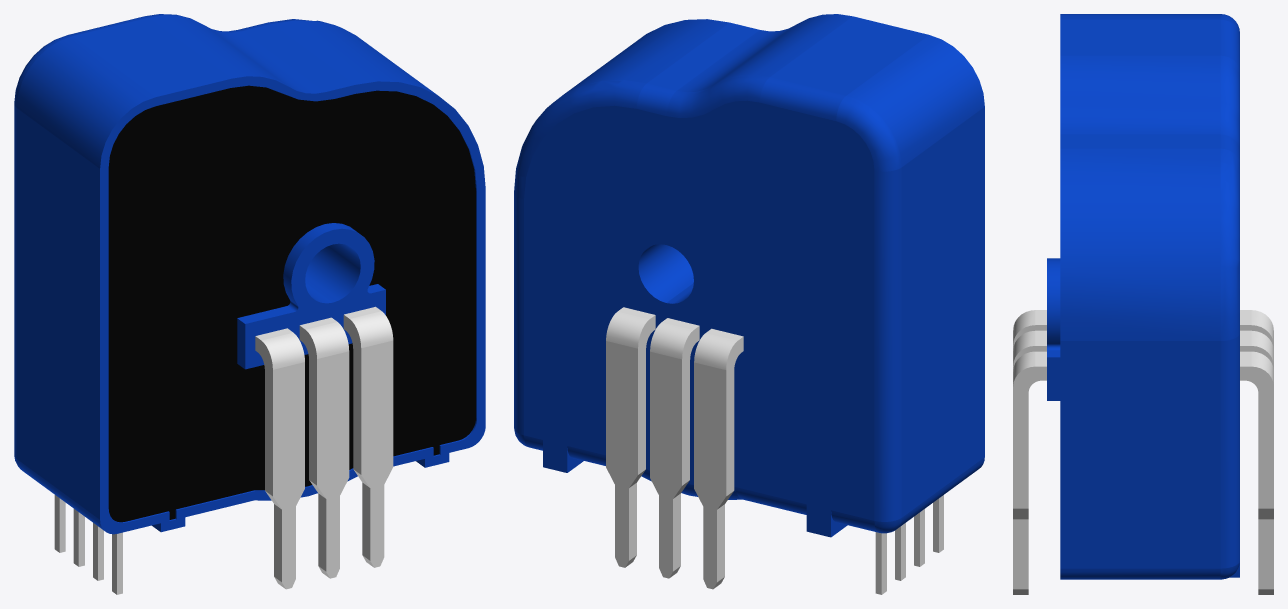
Rendered from kc-lem_ltsr-np.glb.
The picture shows the model from 3 angles, left to right: view 1: azimuth 30°, elevation 25°; view 2: azimuth 150°, elevation 25°; view 3: azimuth 270°, elevation 25°; orthographic projection. The views are drawn at different scales.
Parts seen in each view (by area): view 1: 0_0_0_0, 0_0.08333333333333333_0.6666666666666666_0, 0.8333333333333334_0.8333333333333334_0.8333333333333334_0.8; view 2: 0_0.08333333333333333_0.6666666666666666_0, 0.8333333333333334_0.8333333333333334_0.8333333333333334_0.8; view 3: 0_0.08333333333333333_0.6666666666666666_0, 0.8333333333333334_0.8333333333333334_0.8333333333333334_0.8.
Part boxes in pixels (x1,y1,x2,y2): 0_0_0_0: (108,85,475,522); 0_0.08333333333333333_0.6666666666666666_0: (14,14,485,534); 0.8333333333333334_0.8333333333333334_0.8333333333333334_0.8: (54,306,393,594); 0_0.08333333333333333_0.6666666666666666_0: (514,14,984,537); 0.8333333333333334_0.8333333333333334_0.8333333333333334_0.8: (606,307,943,594); 0_0.08333333333333333_0.6666666666666666_0: (1047,14,1239,579); 0.8333333333333334_0.8333333333333334_0.8333333333333334_0.8: (1013,310,1273,594).
Bounding box in the file's own units: 2.22 × 2.75 × 1.35.
